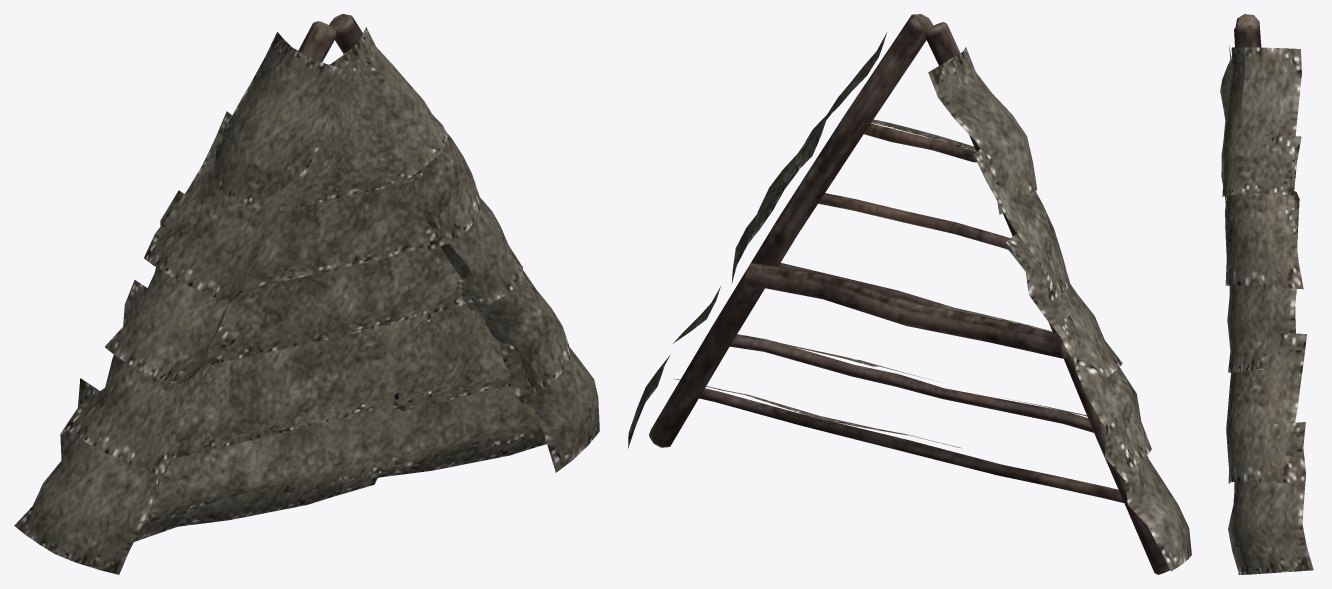
Rendered from SM_RoofPart_06_SideCap_64a2e0.glb.
3 views of the same model, side by side, from view 1: azimuth 30°, elevation 25°; view 2: azimuth 150°, elevation 25°; view 3: azimuth 270°, elevation 25° (orthographic). The views are drawn at different scales.
Bounding box in the file's own units: 9.7 × 8.32 × 1.6.
3 materials, 3 textured.
